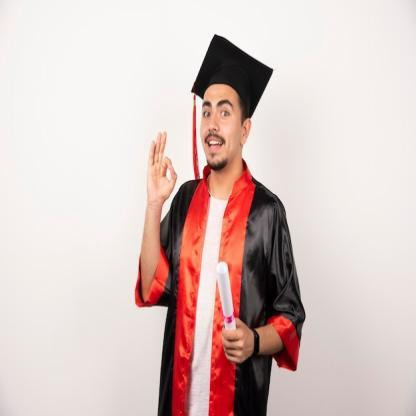ok: (145, 131, 180, 207)
